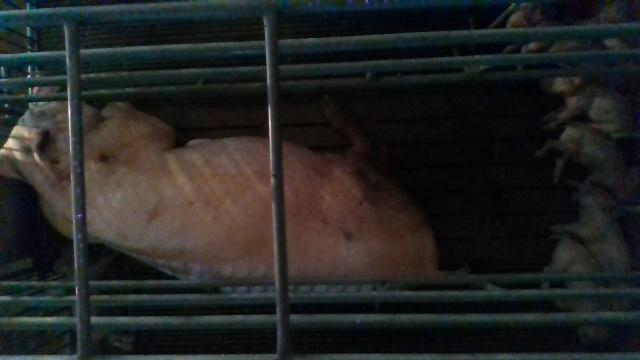piglet: (552, 187, 633, 309), (54, 240, 135, 352), (535, 125, 640, 203), (541, 232, 609, 348), (506, 2, 593, 71), (539, 75, 638, 133)
sow-sleep: (0, 69, 438, 276)
